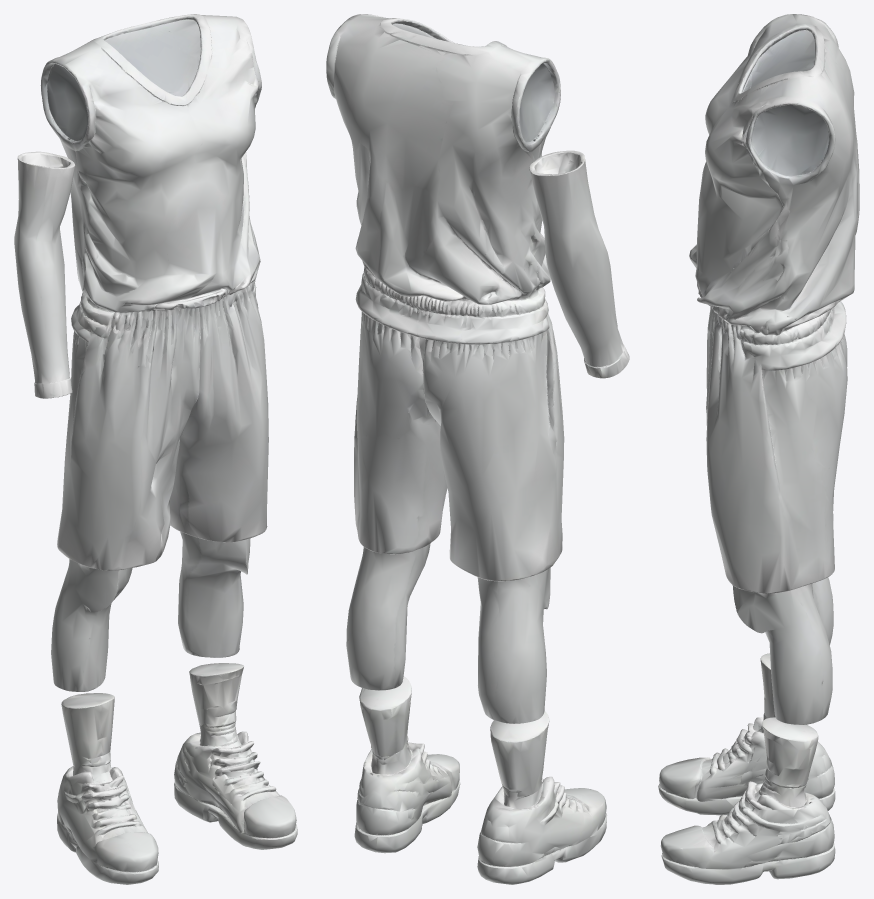
File: jersey.glb
3 renders of one model, left to right at view 1: azimuth 30°, elevation 25°; view 2: azimuth 150°, elevation 25°; view 3: azimuth 270°, elevation 25°, orthographic. The views are drawn at different scales.
Visible parts, largest first — view 1: model; view 2: model; view 3: model.
Boxes of the visible parts, x1,y1,x2,y2 form: model: (14,14,297,884); model: (326,14,629,884); model: (658,14,859,884).
Bounding box in the file's own units: 0.5942 × 1.9 × 0.4348.
Materials: 1 (1 with a texture image).
